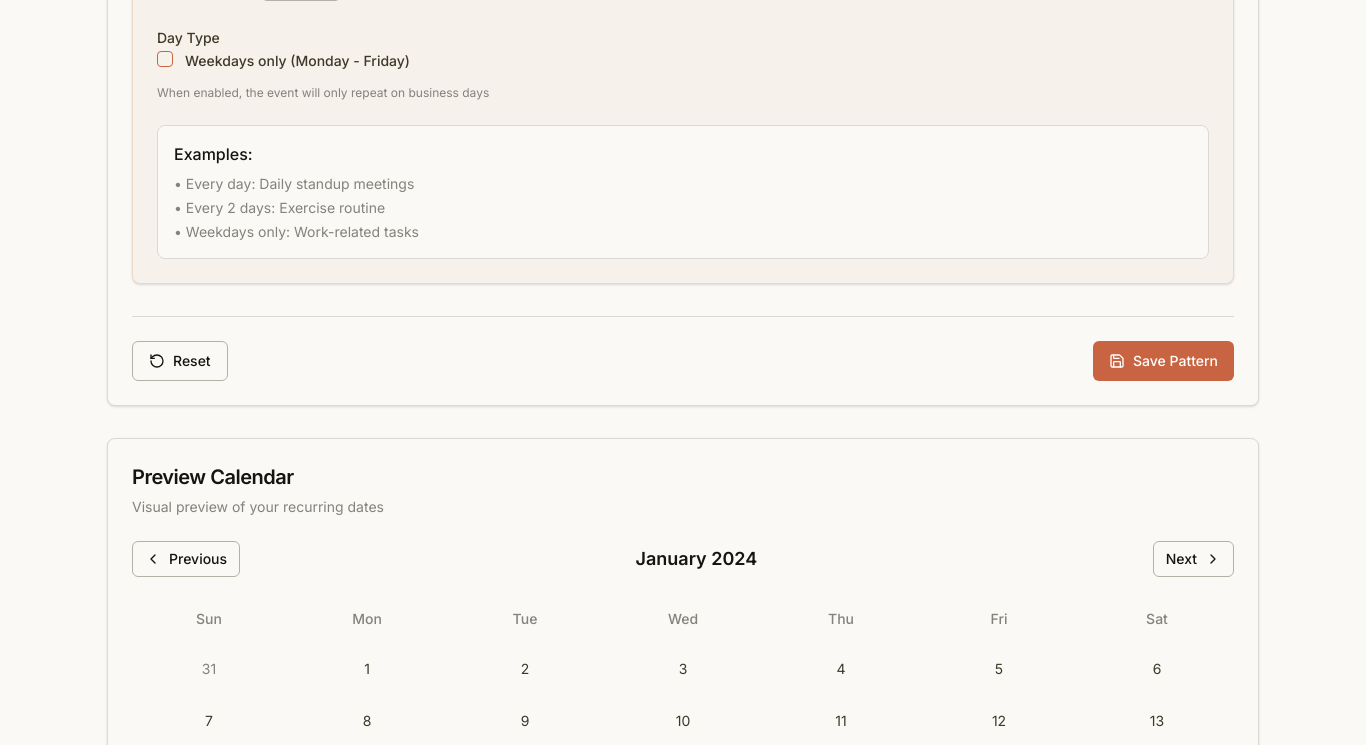
Test: RecurringDatePicker › shows success message after saving
This screenshot has width=1366, height=745.
(page scrolled)
Click the button "Save Pattern": [1164, 361] box [1093,341,1234,381]
(page scrolled)
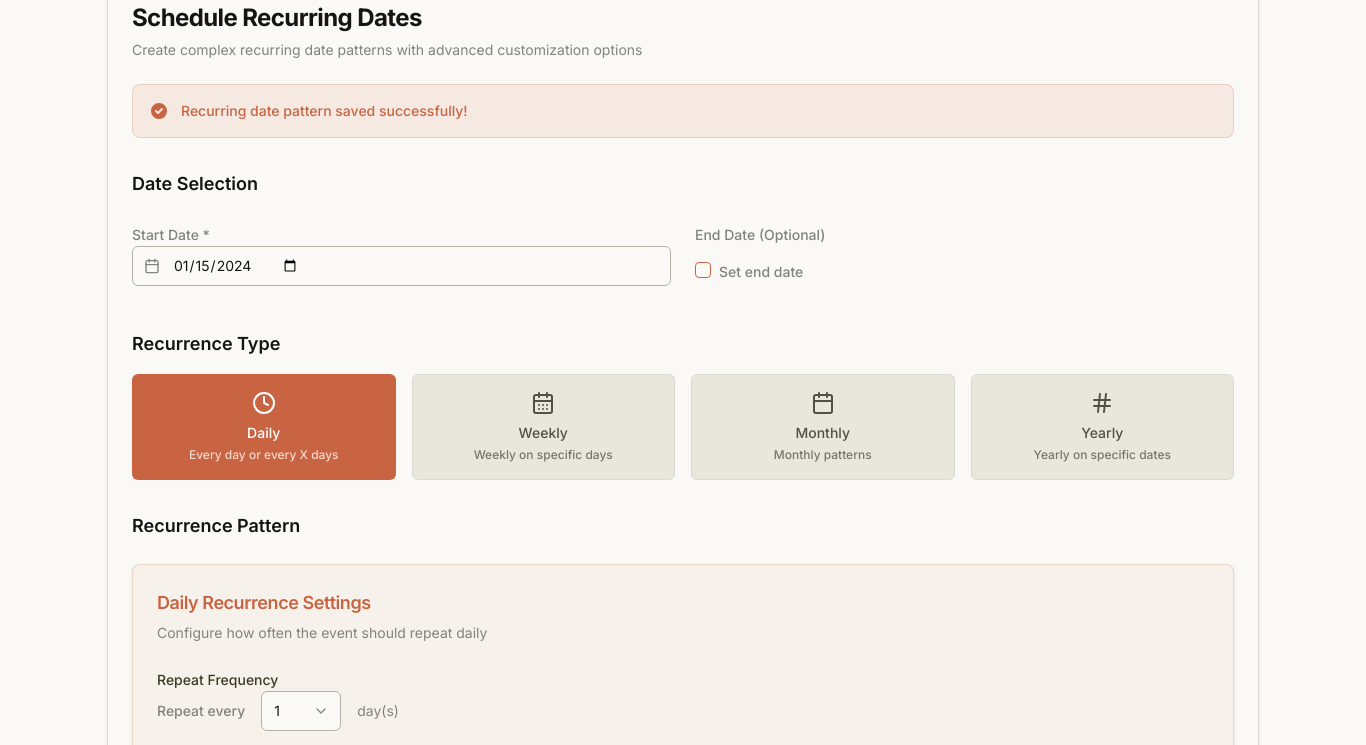
Check: the text "Recurring date pattern saved successfully!" is shown, box [181,101,468,121]
